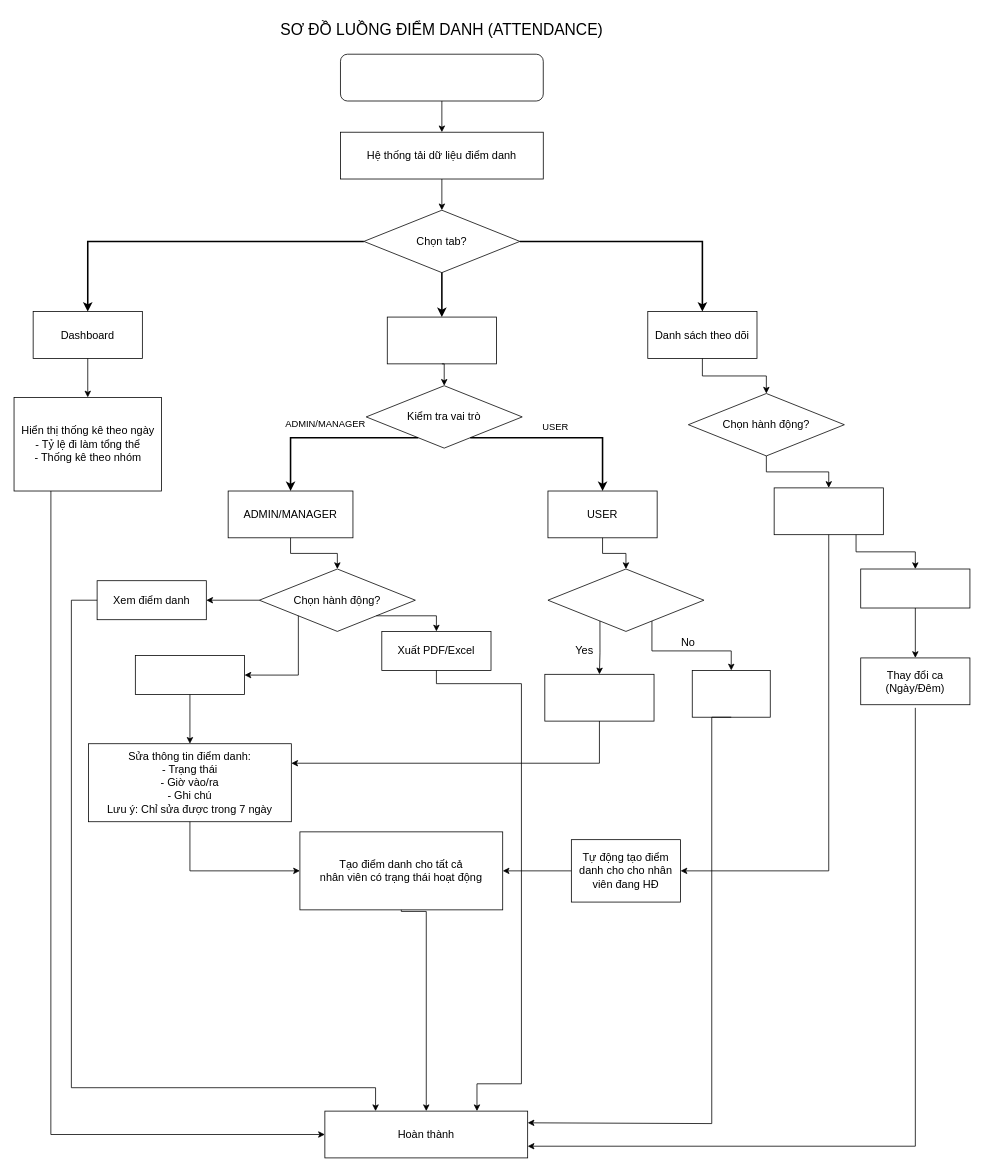
This 984x1172 diagram has some shape labels left out. Here are the shapes that lost their labels. From the top down, the centre of each, then its label:
At point (441, 77): "Người dùng truy cập Attendance Page".
At point (441, 340): "Bảng điểm danh".
At point (828, 511): "Thêm nhân viên (ADMIN/MANAGER)".
At point (625, 599): "Kiểm tra quyền sửa".
At point (915, 588): "Bật/Tắt theo dõi".
At point (190, 675): "Sửa điểm danh".
At point (730, 693): "Chỉ xem".
At point (599, 697): "Có thể sửa (chính mình)".
